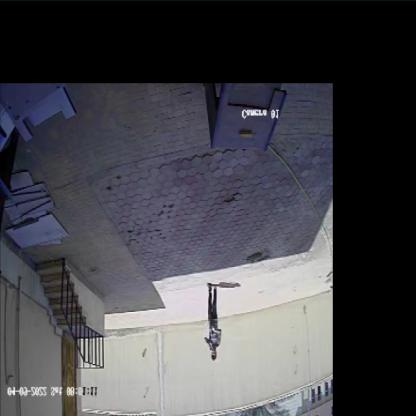handgun: (207, 309, 217, 338)
